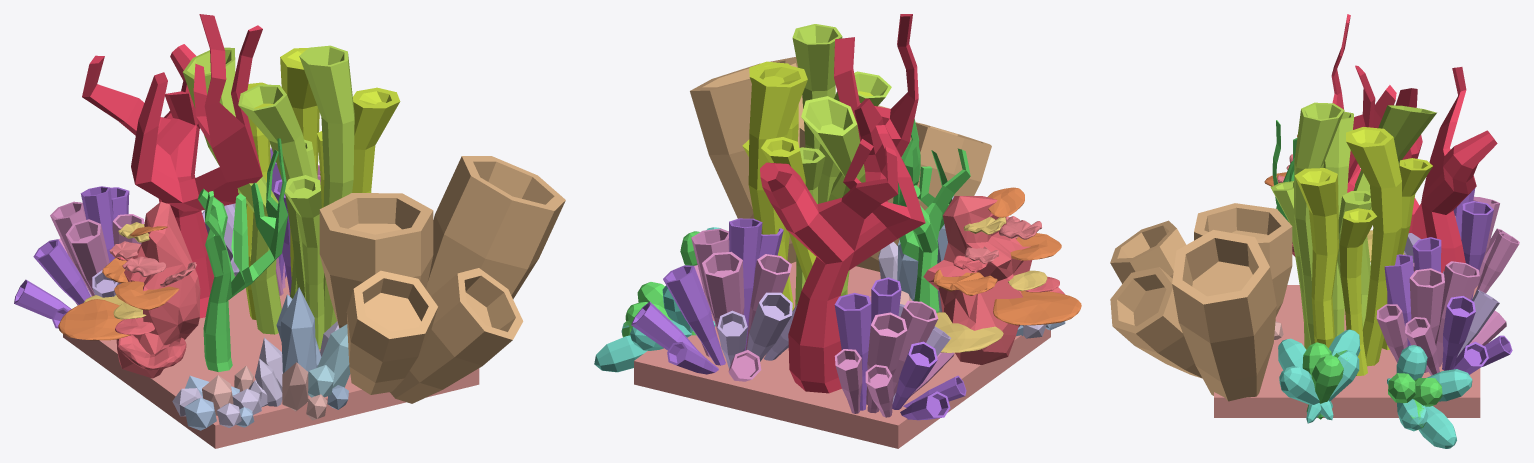
Rendered from reef2.fbx.
3 views of the same model, side by side, from view 1: azimuth 30°, elevation 25°; view 2: azimuth 150°, elevation 25°; view 3: azimuth 270°, elevation 25° (orthographic). The views are drawn at different scales.
Visible parts, largest first — view 1: reef_block_4; view 2: reef_block_4; view 3: reef_block_4.
Part boxes in pixels (bbox=[...]): reef_block_4: bbox=[14, 14, 565, 448]; reef_block_4: bbox=[594, 14, 1081, 448]; reef_block_4: bbox=[1110, 14, 1519, 448].
Size of the model in its own units: 18.42 by 15.32 by 17.27.
